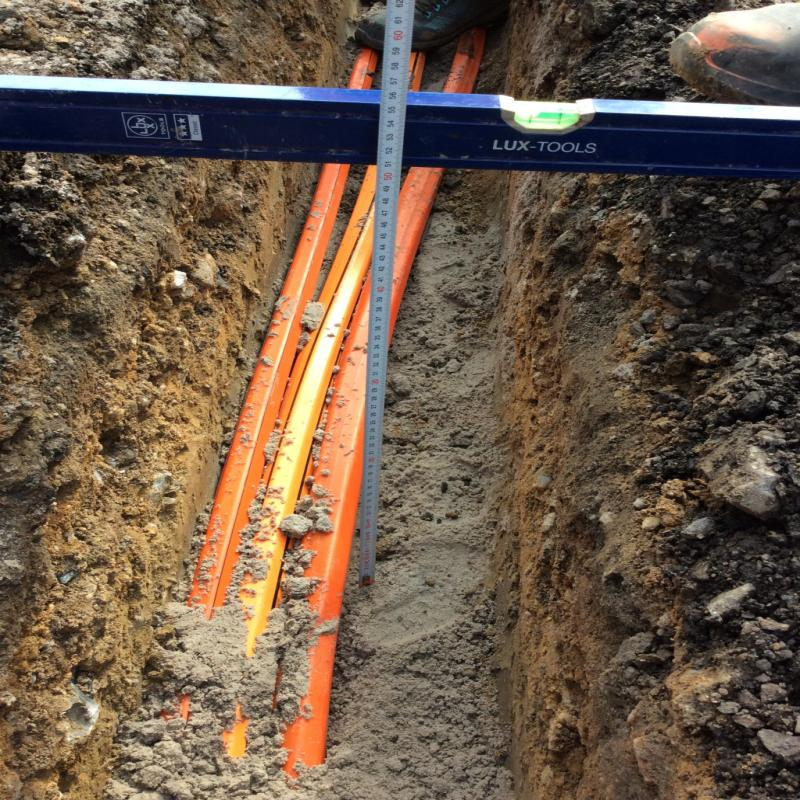Orang-Speednetrohrchen: (185, 161, 444, 765), (349, 34, 487, 100)
